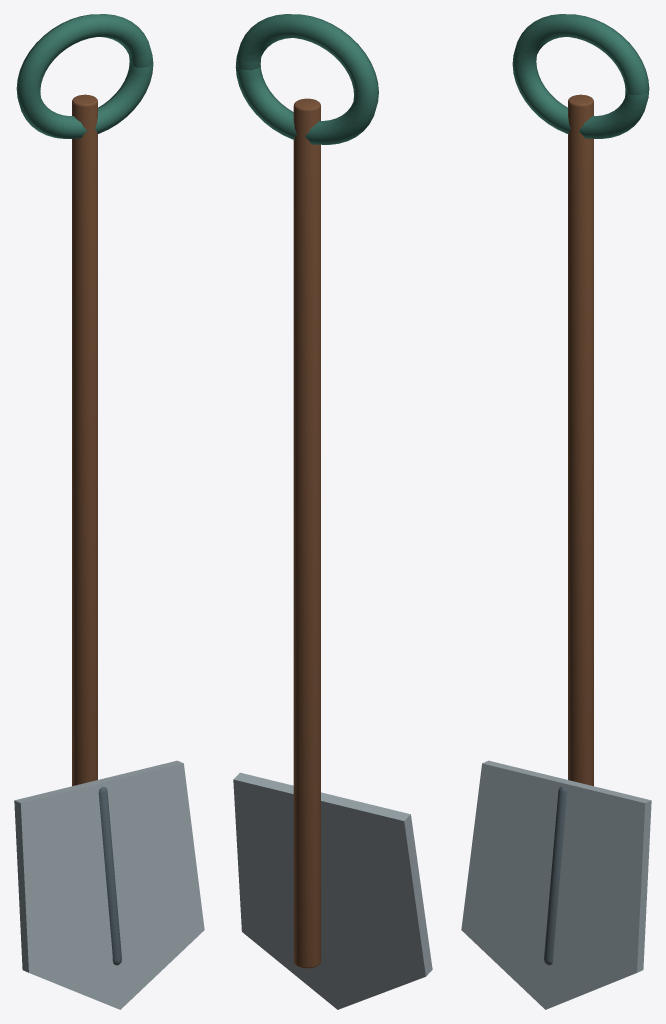
The model's file is spade.glb.
3 views of the same model, side by side, from view 1: azimuth 30°, elevation 25°; view 2: azimuth 150°, elevation 25°; view 3: azimuth 330°, elevation 25° (orthographic). The views are drawn at different scales.
Parts seen in each view (by area): view 1: Steel_shovel, Wood_handle, D_grip, Blade_ridge; view 2: Steel_shovel, Wood_handle, D_grip; view 3: Steel_shovel, Wood_handle, D_grip, Blade_ridge.
Part boxes in pixels (<box>): Steel_shovel: <box>14,760,204,1009</box>; Wood_handle: <box>72,94,97,786</box>; D_grip: <box>16,14,153,138</box>; Blade_ridge: <box>98,786,121,965</box>; Steel_shovel: <box>233,772,432,1009</box>; Wood_handle: <box>293,98,320,968</box>; D_grip: <box>235,14,378,144</box>; Steel_shovel: <box>461,760,651,1009</box>; Wood_handle: <box>568,94,593,786</box>; D_grip: <box>512,14,649,138</box>; Blade_ridge: <box>544,786,567,965</box>.
Size of the model in its own units: 0.28 by 1.48 by 0.1158.
